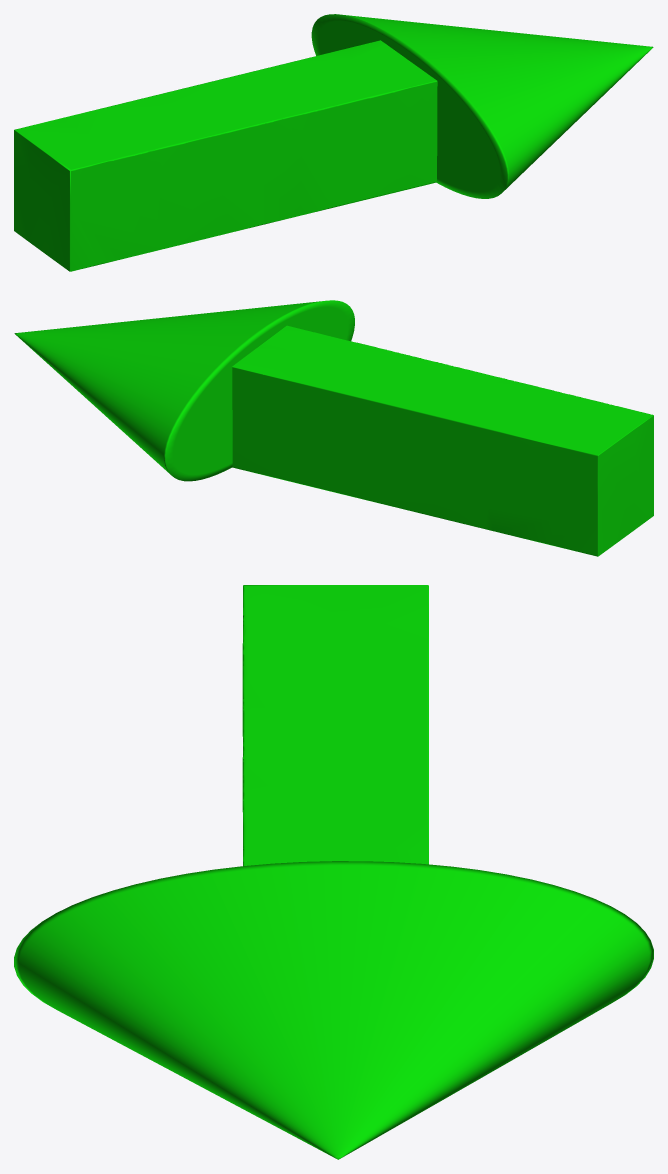
File: Green_Arrow.obj
3 views of the same model, one above another, from view 1: azimuth 30°, elevation 25°; view 2: azimuth 150°, elevation 25°; view 3: azimuth 270°, elevation 25° (orthographic). The views are drawn at different scales.
Parts seen in each view (by area): view 1: Box, Cone; view 2: Box, Cone; view 3: Cone, Box.
Boxes of the visible parts, <box> form: Box: <box>14,40,437,271</box>; Cone: <box>311,14,653,198</box>; Box: <box>232,325,653,556</box>; Cone: <box>14,300,354,481</box>; Cone: <box>14,861,653,1159</box>; Box: <box>242,585,428,865</box>.
Size of the model in its own units: 6.32 by 1.15 by 3.44.
